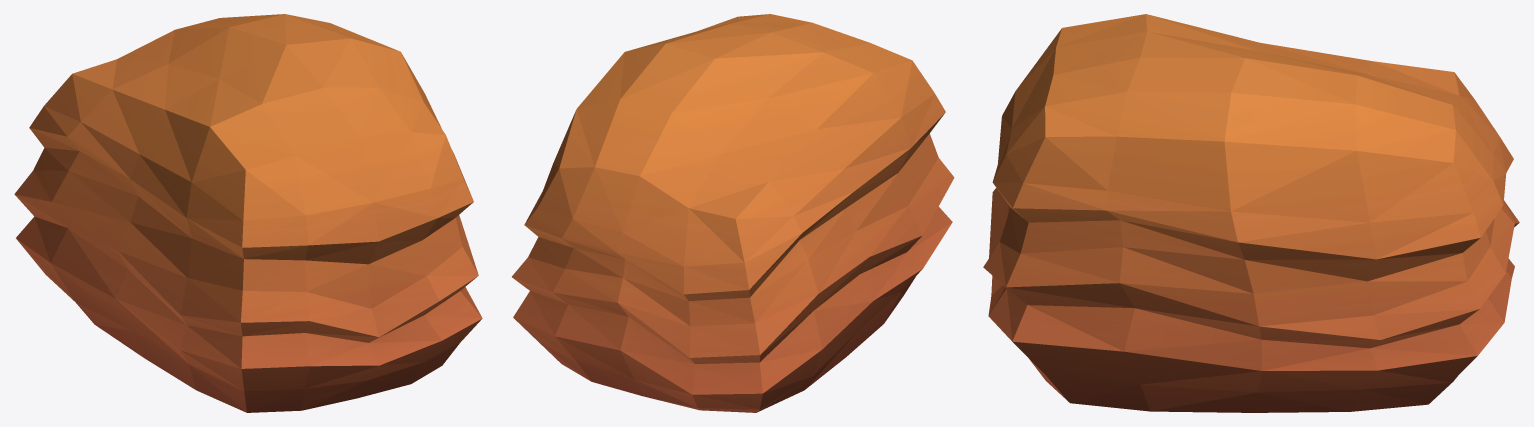
File: bush_round.glb
3 renders of one model, left to right at view 1: azimuth 30°, elevation 25°; view 2: azimuth 150°, elevation 25°; view 3: azimuth 270°, elevation 25°, orthographic. The views are drawn at different scales.
Visible parts, largest first — view 1: Bush_1_1_C; view 2: Bush_1_1_C; view 3: Bush_1_1_C.
Part boxes in pixels (x1,y1,x2,y2): Bush_1_1_C: (14, 14, 482, 412); Bush_1_1_C: (512, 14, 954, 412); Bush_1_1_C: (983, 14, 1519, 412).
Bounding box in the file's own units: 1.19 × 1 × 1.6.
Materials: 1 (1 with a texture image).
